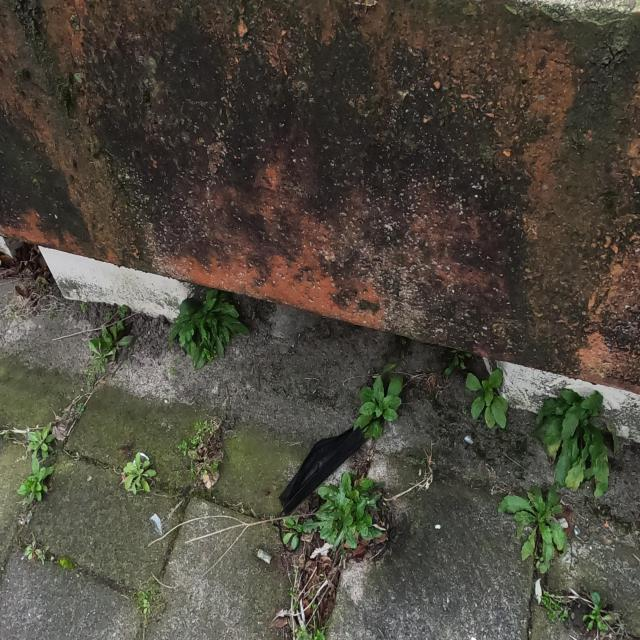Mask: (278, 416, 384, 554)
Paper: (309, 542, 334, 560)
